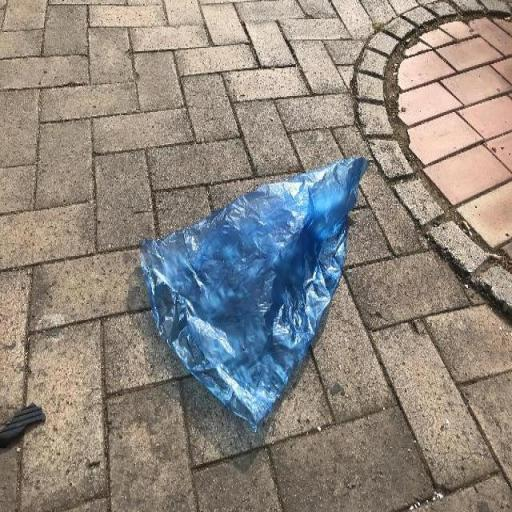plastic-bag: (132, 152, 375, 446)
